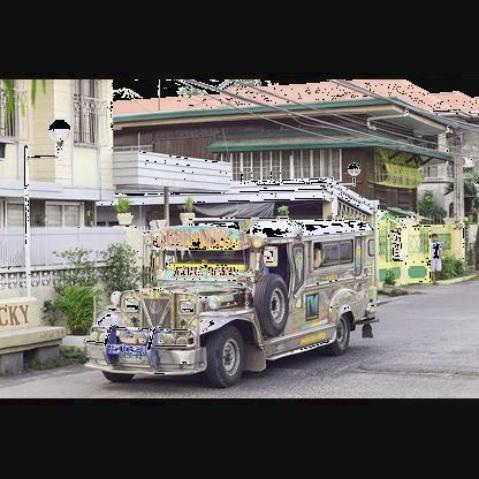jeepney: (71, 193, 390, 392)
